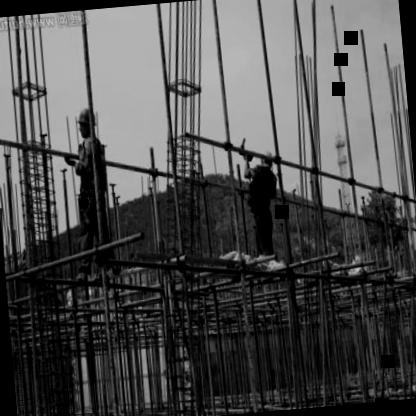helmet: (74, 106, 100, 144), (258, 148, 274, 175)
